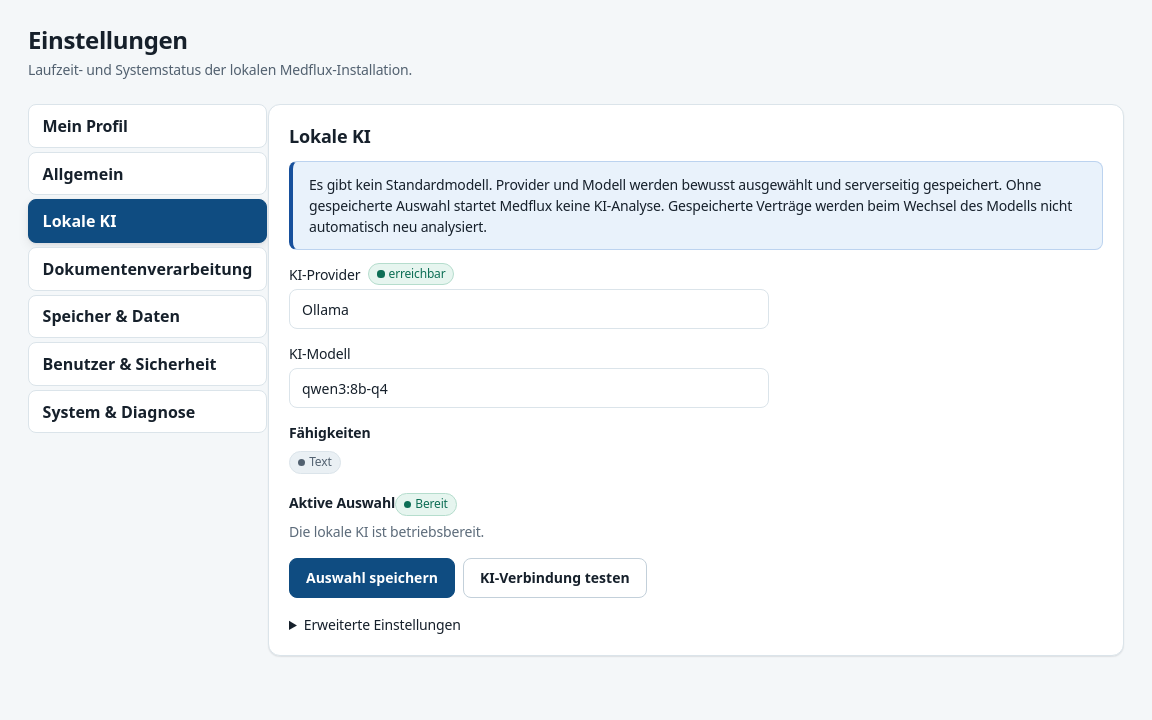
Scenario: Einstellungen (STEP 6B, Anbieter-unabhängig) › Zeigt nach Provider-Wechsel die Modelle des gewählten Providers
Select "LM Studio" in the dropdown labelled "KI-Provider erreichbar". click: (529, 310)
box: x1=289 y1=290 x2=769 y2=330
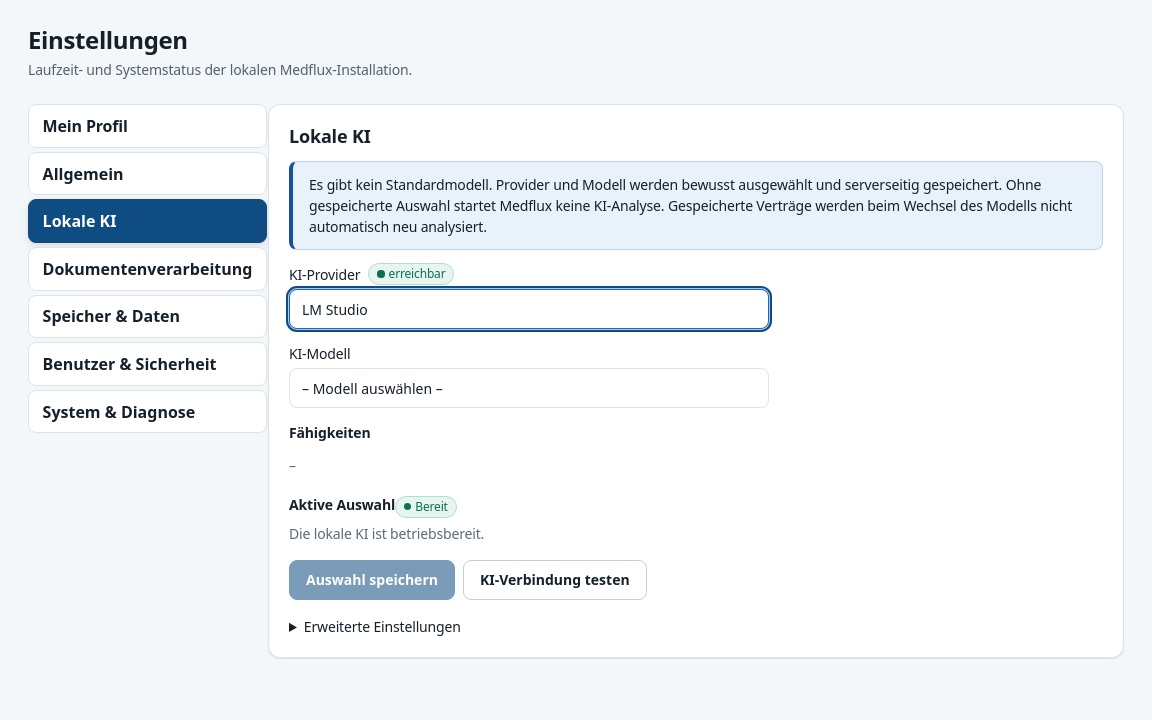
Expected: the dropdown labelled "KI-Modell" shows "– Modell auswählen –"
Select "lm-modell" in the dropdown labelled "KI-Modell". click: (529, 388)
box: x1=289 y1=368 x2=769 y2=408
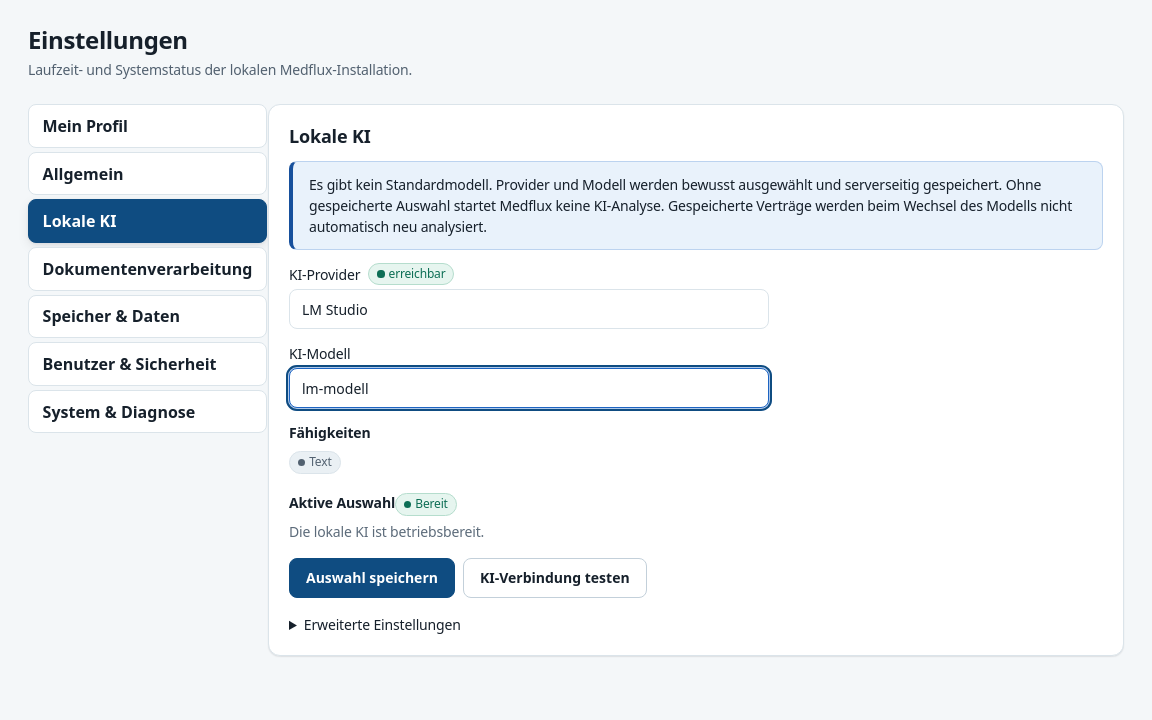
Expected: the text "Text" is shown, x1=289 y1=452 x2=341 y2=474
